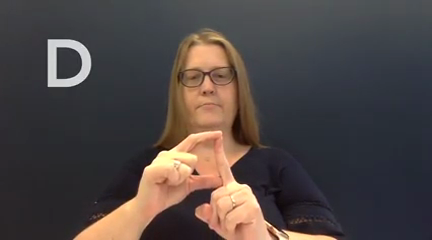D: (137, 126, 262, 240)
